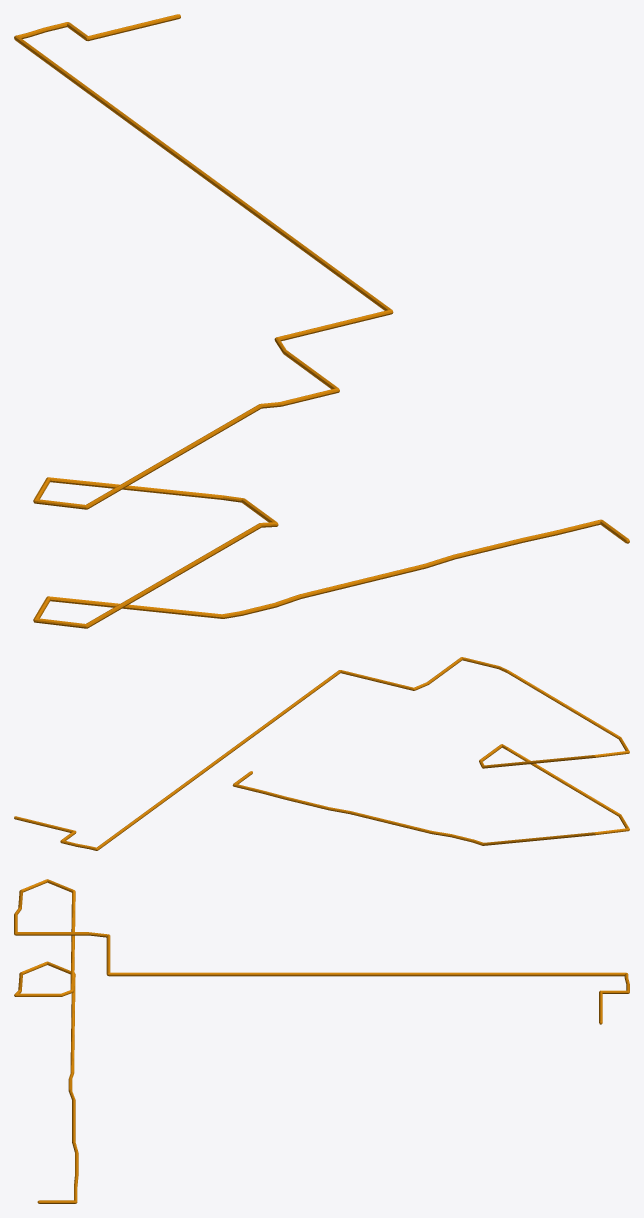
The picture shows the model from 3 angles, top to bottom: view 1: azimuth 30°, elevation 25°; view 2: azimuth 150°, elevation 25°; view 3: azimuth 270°, elevation 25°; orthographic projection. The views are drawn at different scales.
Bounding box in the file's own units: 2595 × 1020 × 3390.
